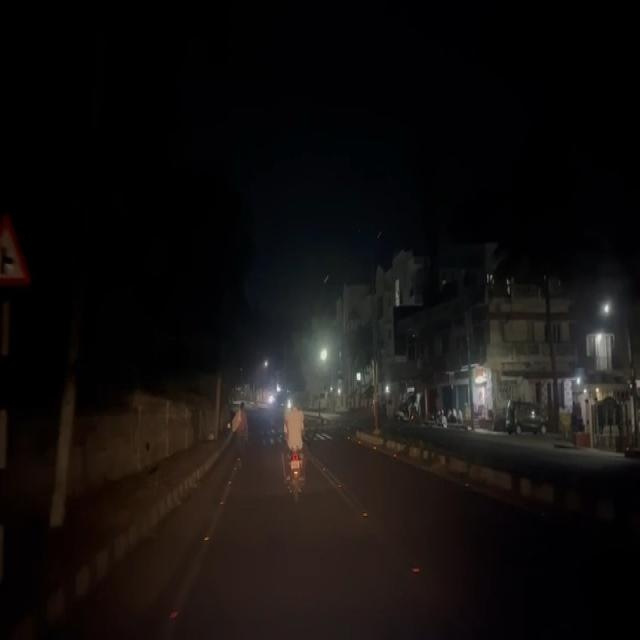bien_nguy_hiem: (0, 206, 32, 296)
